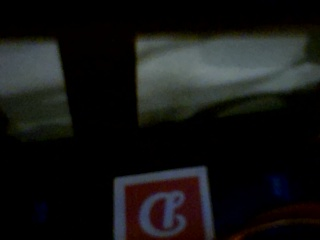D: (122, 176, 208, 240)
